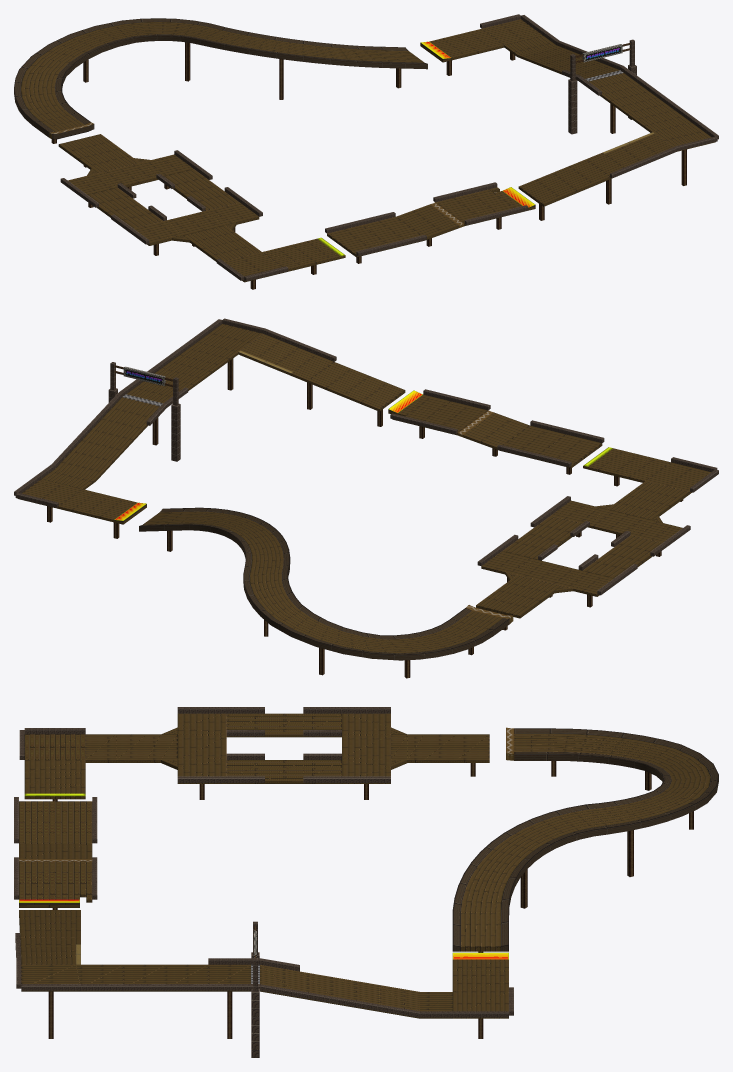
3 renders of one model, top to bottom at view 1: azimuth 30°, elevation 25°; view 2: azimuth 150°, elevation 25°; view 3: azimuth 270°, elevation 25°, orthographic. The views are drawn at different scales.
Parts seen in each view (by area): view 1: obj_ita, obj_block, obj_ita2_tsunagi, obj_hasira; view 2: obj_ita, obj_block, obj_ita2_tsunagi, obj_hasira; view 3: obj_ita, obj_block, obj_ita2_tsunagi, obj_hasira, obj_ef_dushBoard.
Part boxes in pixels (x1,y1,x2,y2): obj_ita: [21, 19, 715, 282]; obj_block: [60, 14, 718, 281]; obj_ita2_tsunagi: [14, 18, 535, 208]; obj_hasira: [51, 42, 686, 289]; obj_ita: [17, 324, 711, 653]; obj_block: [14, 318, 718, 595]; obj_ita2_tsunagi: [115, 409, 509, 660]; obj_hasira: [47, 358, 683, 678]; obj_ita: [19, 713, 710, 1018]; obj_block: [14, 707, 513, 1057]; obj_ita2_tsunagi: [19, 728, 718, 946]; obj_hasira: [48, 761, 693, 1038]; obj_ef_dushBoard: [19, 899, 508, 959].
Size of the model in its own units: 458 by 65.22 by 429.
Materials: 12 (12 with a texture image).
